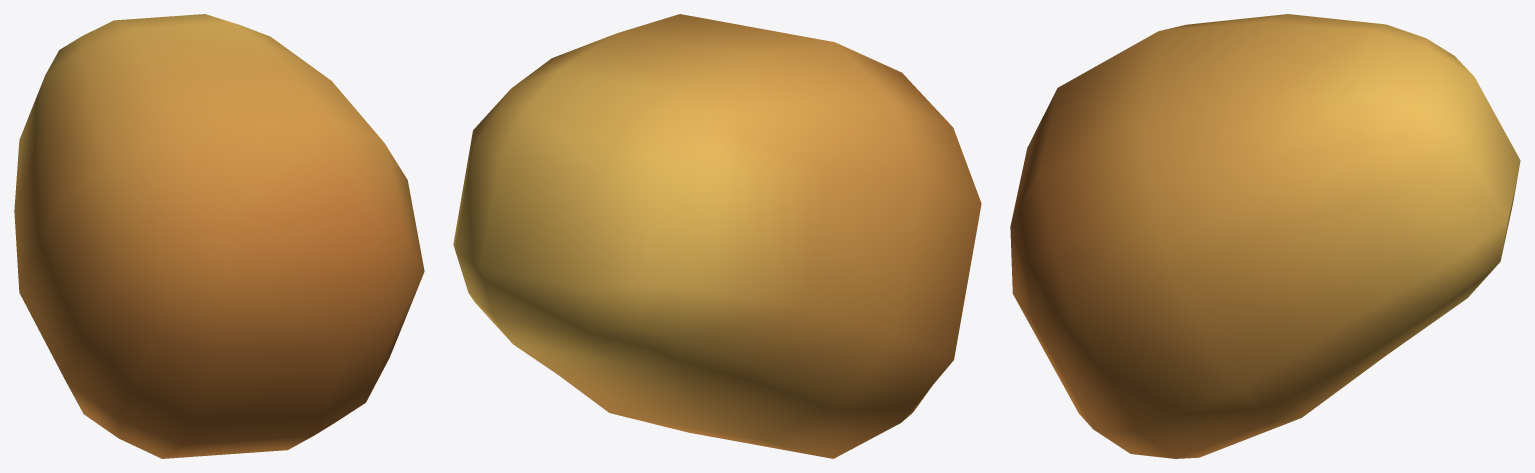
Rendered from potato.fbx.
The picture shows the model from 3 angles, left to right: view 1: azimuth 30°, elevation 25°; view 2: azimuth 150°, elevation 25°; view 3: azimuth 270°, elevation 25°; orthographic projection. The views are drawn at different scales.
Visible parts, largest first — view 1: crate_potatoes.001; view 2: crate_potatoes.001; view 3: crate_potatoes.001.
Boxes of the visible parts, x1,y1,x2,y2 form: crate_potatoes.001: (14, 14, 424, 458); crate_potatoes.001: (453, 14, 981, 458); crate_potatoes.001: (1010, 14, 1520, 458).
Size of the model in its own units: 0.6848 by 0.6894 by 0.8085.
